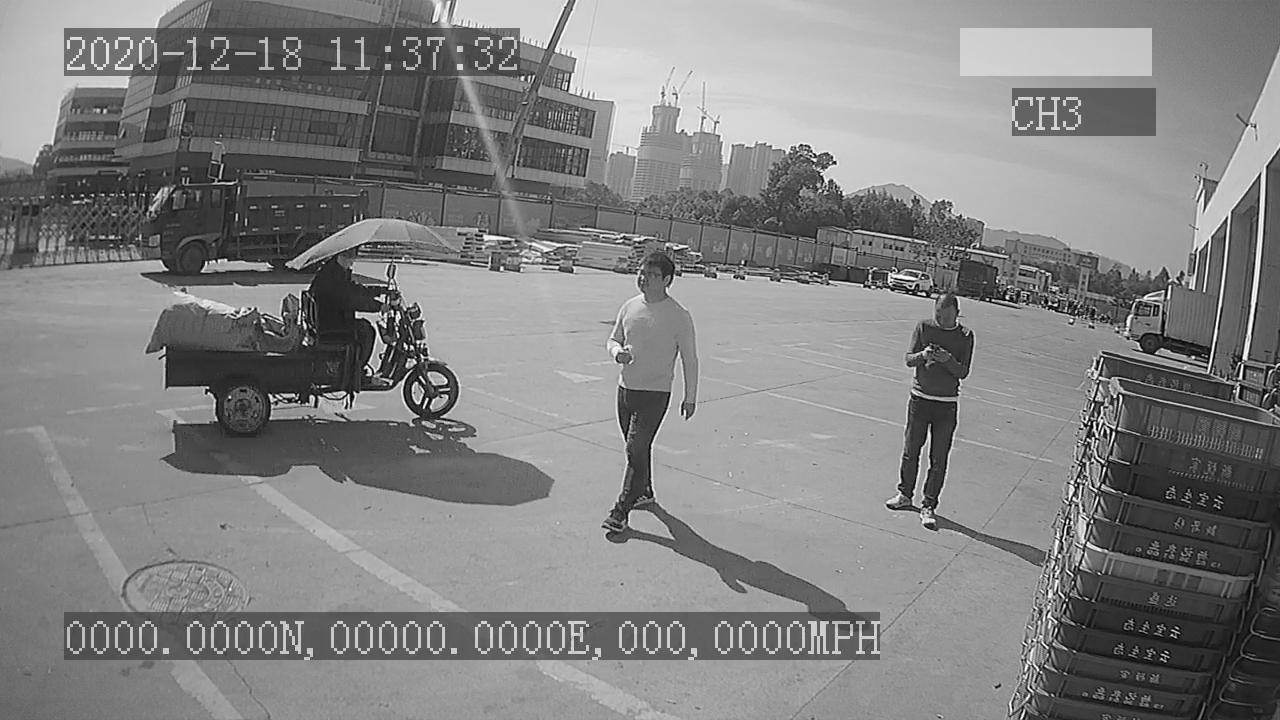person: (592, 246, 705, 541), (885, 290, 980, 531)
